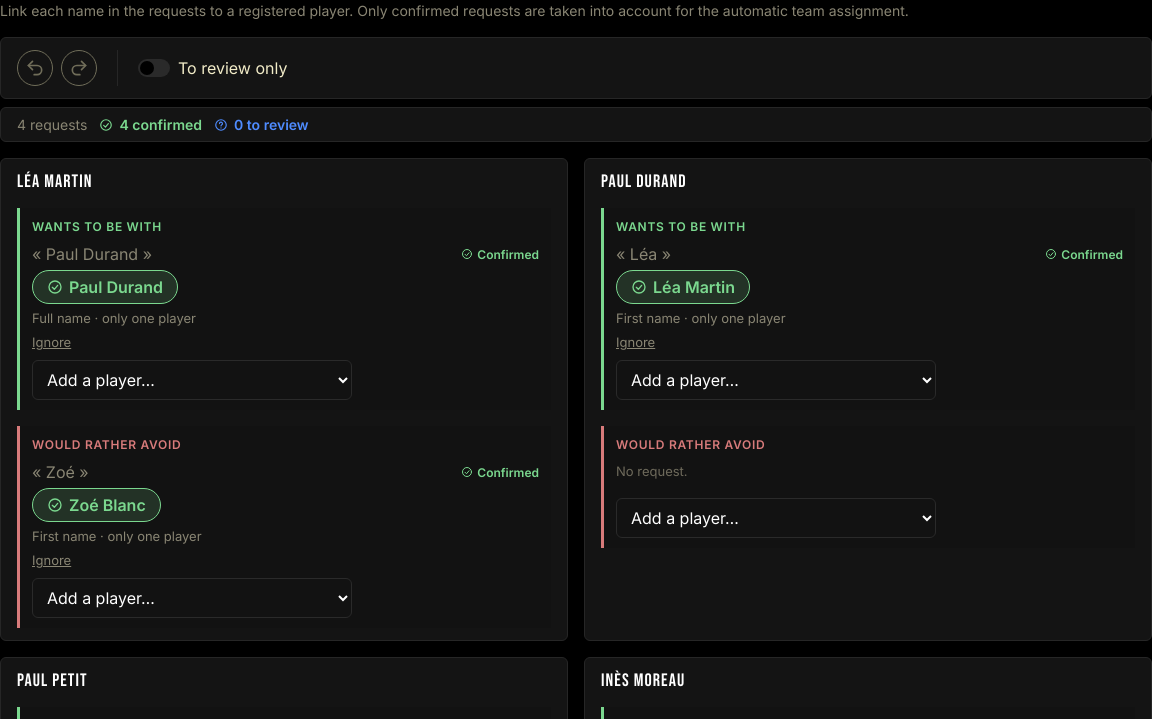
BuilderRequests › toolbar › says everything is confirmed when the filter leaves no line
Click the checkbox labelled "To review only" at (213, 68), box [138, 58, 287, 78]
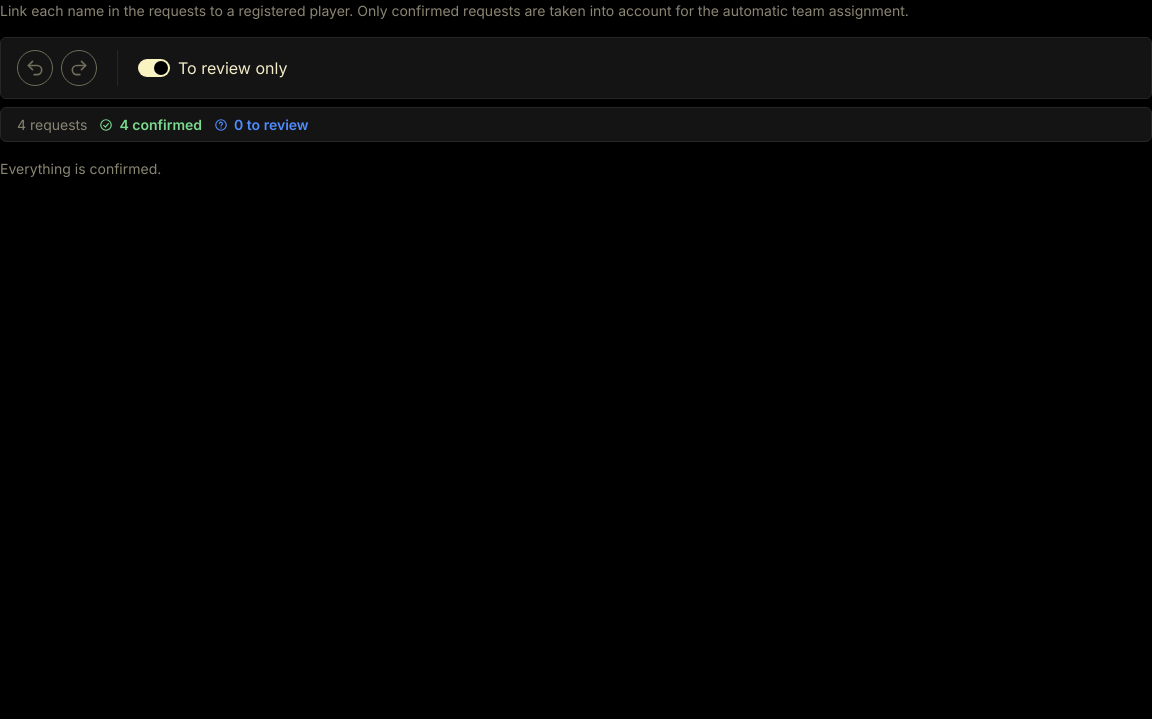
Now the text "Everything is confirmed." is shown, box [0, 160, 161, 177]
